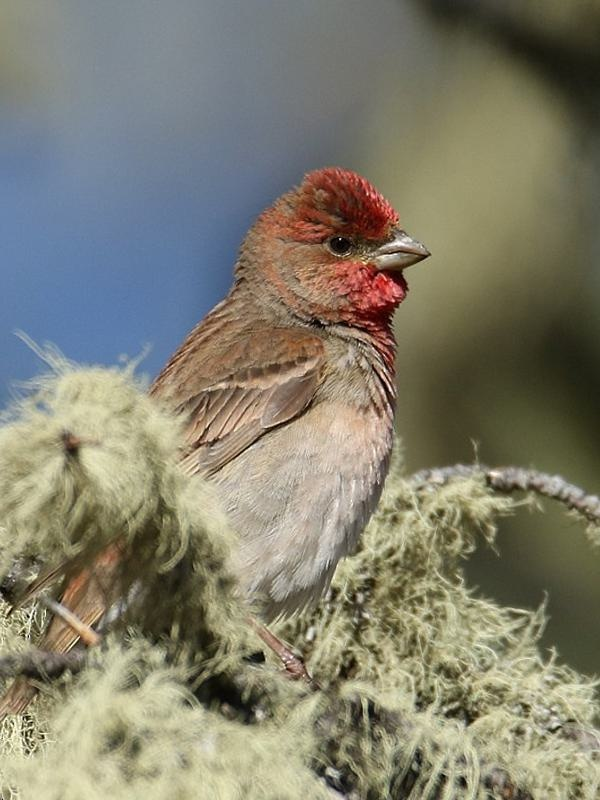rosefinch: (95, 131, 471, 657)
